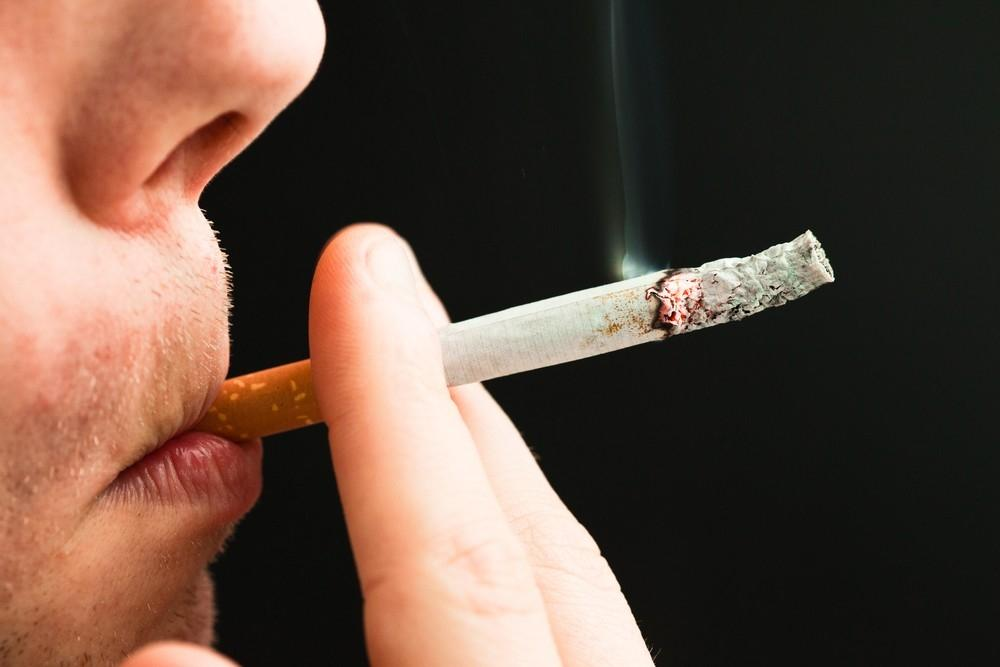cigarette: (190, 228, 836, 456)
